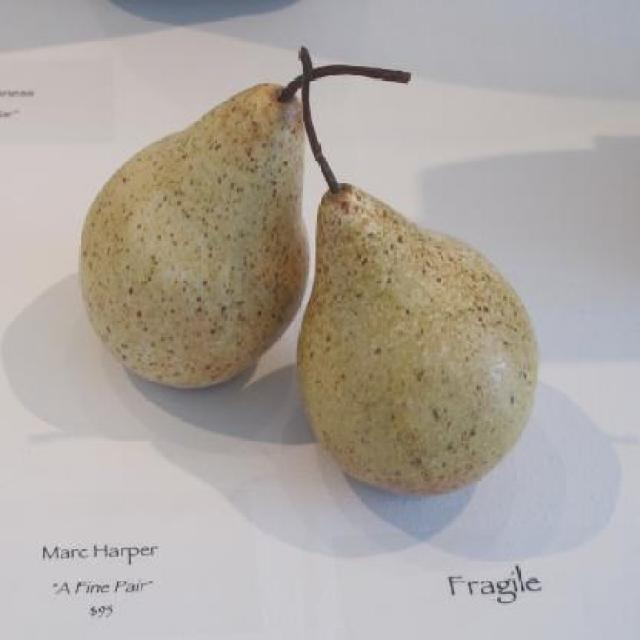Pear: (295, 182, 540, 495), (80, 82, 318, 386)
